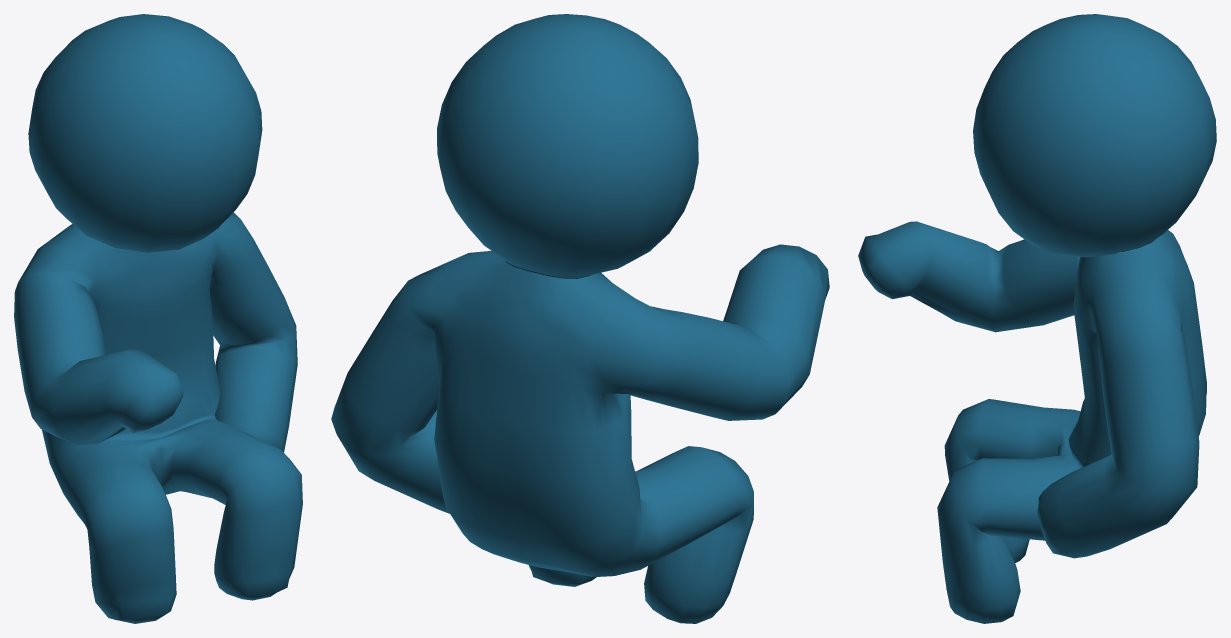
Rendered from driver farmer.fbx.
3 views of the same model, side by side, from view 1: azimuth 30°, elevation 25°; view 2: azimuth 150°, elevation 25°; view 3: azimuth 270°, elevation 25° (orthographic). The views are drawn at different scales.
Parts seen in each view (by area): view 1: stick_oguz; view 2: stick_oguz; view 3: stick_oguz.
Part boxes in pixels (box(x1,y1,x2,y2)): stick_oguz: box(14, 14, 302, 623); stick_oguz: box(331, 14, 829, 623); stick_oguz: box(858, 14, 1216, 623).
Bounding box in the file's own units: 0.8023 × 1.27 × 0.7268.
